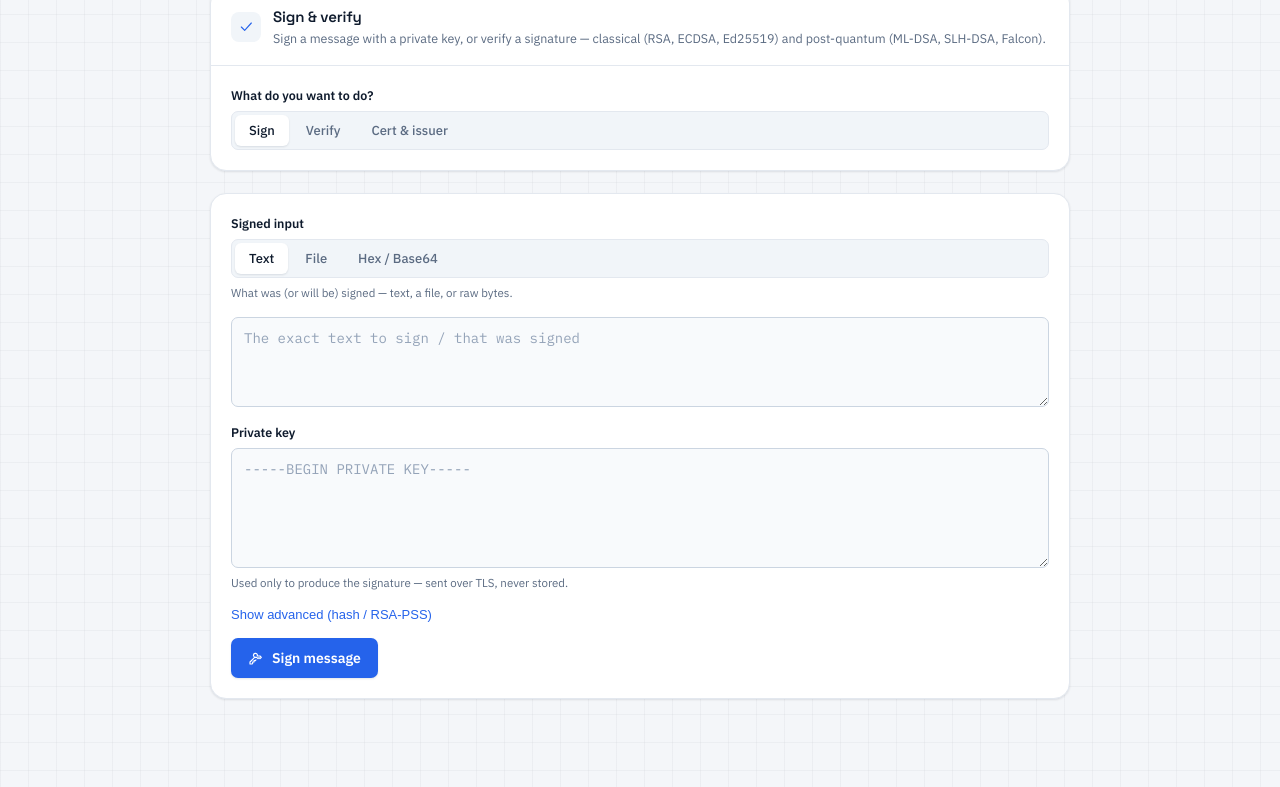
Scenario: VerifyView — combined Sign & Verify › verify: errors without a verifier
Click the tab "Verify" at (323, 130), box [292, 115, 354, 146]
(page scrolled)
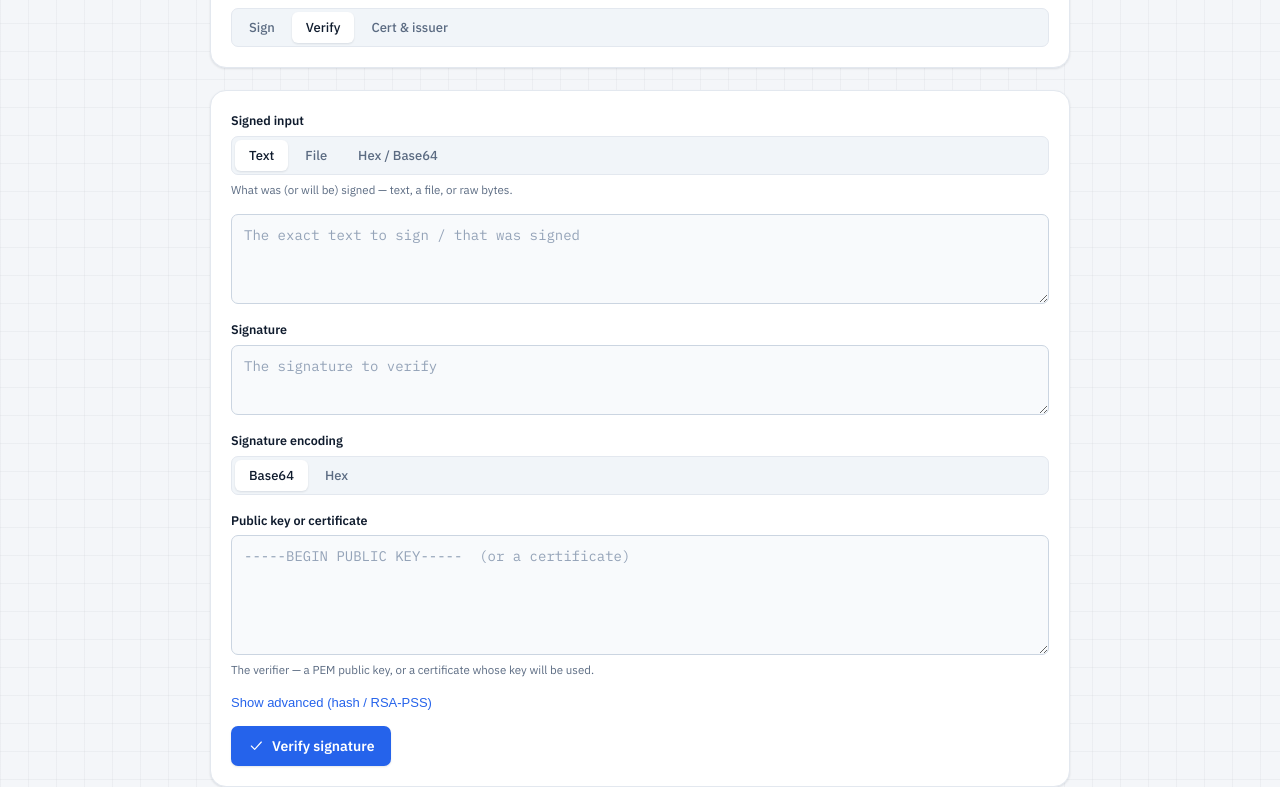
Click the button "Verify signature" at (311, 746), box [231, 726, 392, 766]
(page scrolled)
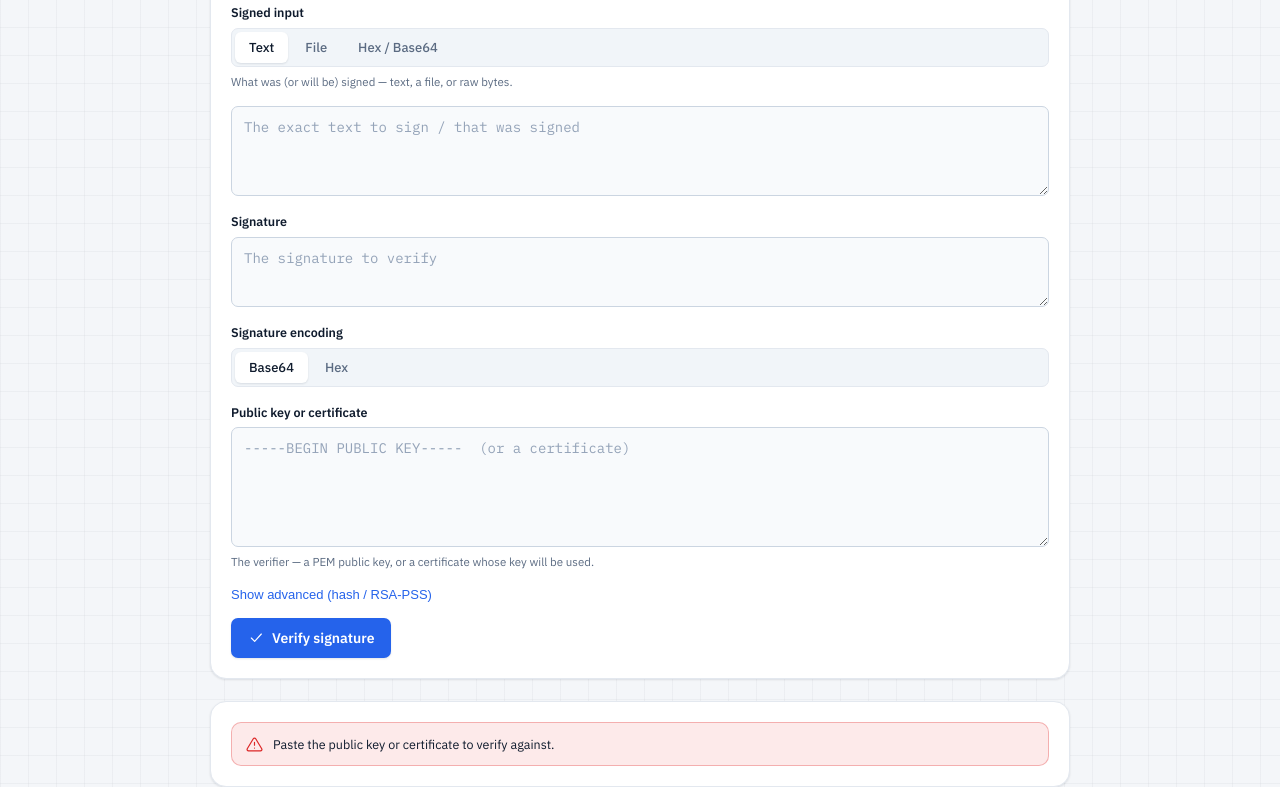
Check: the text "Paste the public key or certificate to verify against." is shown, box [273, 734, 554, 753]
